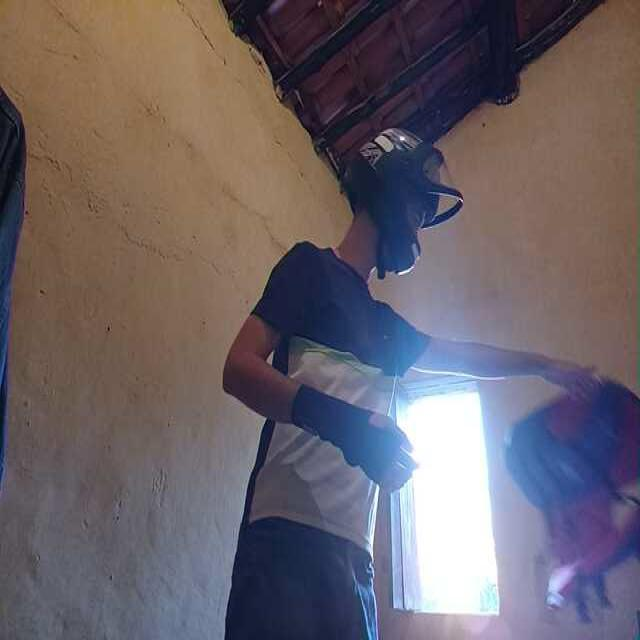capacete: (338, 125, 468, 280)
colete: (490, 364, 640, 617)
pessoa: (224, 118, 572, 640)
